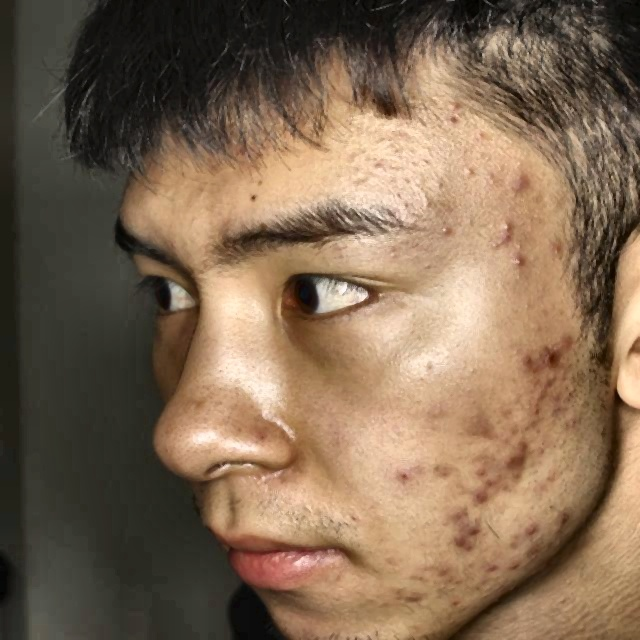papule: (501, 165, 541, 197), (459, 483, 503, 508), (401, 583, 432, 618), (526, 343, 562, 371), (432, 100, 469, 124), (516, 516, 550, 540), (424, 458, 454, 485), (506, 246, 532, 276), (488, 219, 518, 244), (465, 417, 492, 442), (555, 329, 582, 353), (502, 424, 526, 451), (548, 238, 572, 262), (502, 454, 524, 479), (479, 557, 500, 583), (525, 384, 543, 413), (432, 221, 453, 245), (465, 476, 503, 489), (446, 538, 478, 552), (459, 520, 486, 535), (517, 547, 544, 562), (495, 556, 522, 571), (446, 511, 476, 524), (555, 514, 579, 530), (544, 375, 568, 390), (462, 465, 484, 476), (548, 394, 562, 407)
